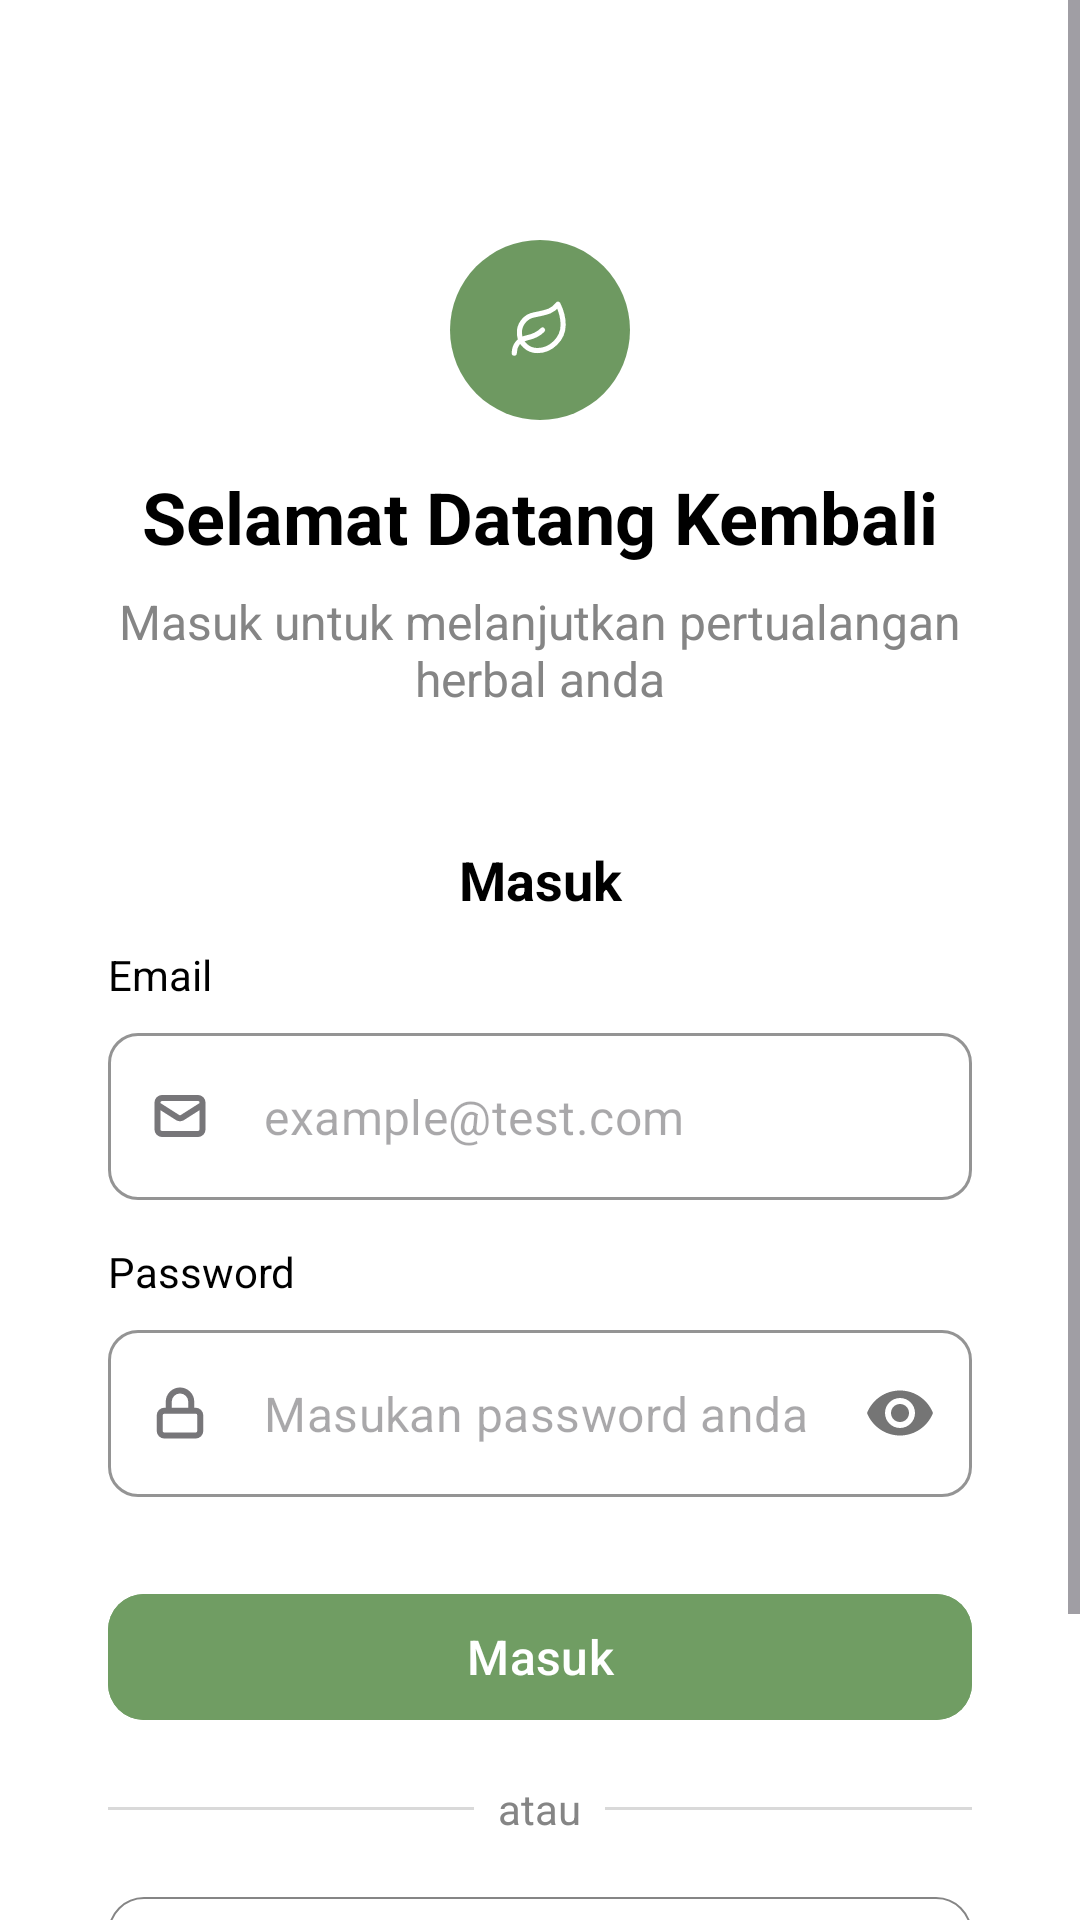

Icons on this 1080x1920 Android screen, each with the point to tap as point (x, y):
circle welcome: point (540, 330)
